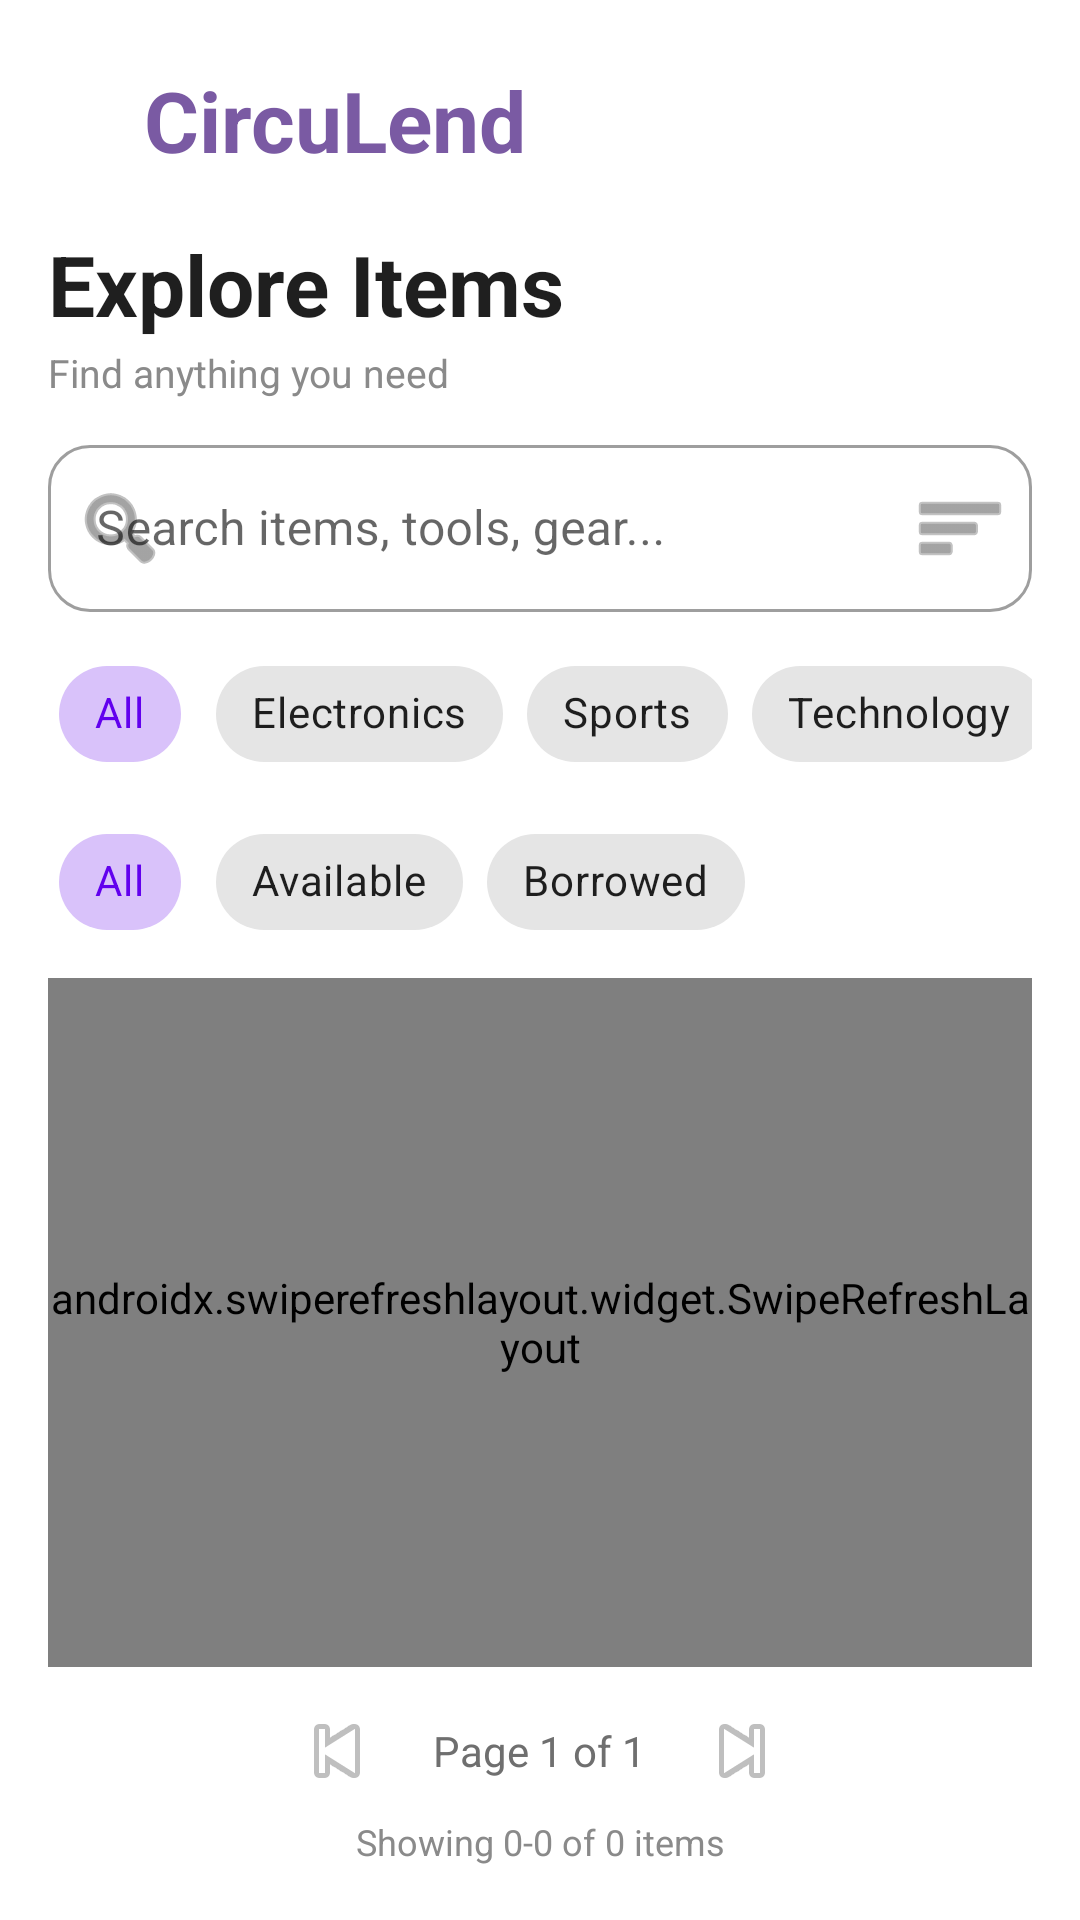

Named icons in this screenshot (1080x1920) and their bounding boxes, (x1, y1, x2, y2):
Next page: (719, 1724, 765, 1778)
Previous page: (314, 1724, 360, 1778)
